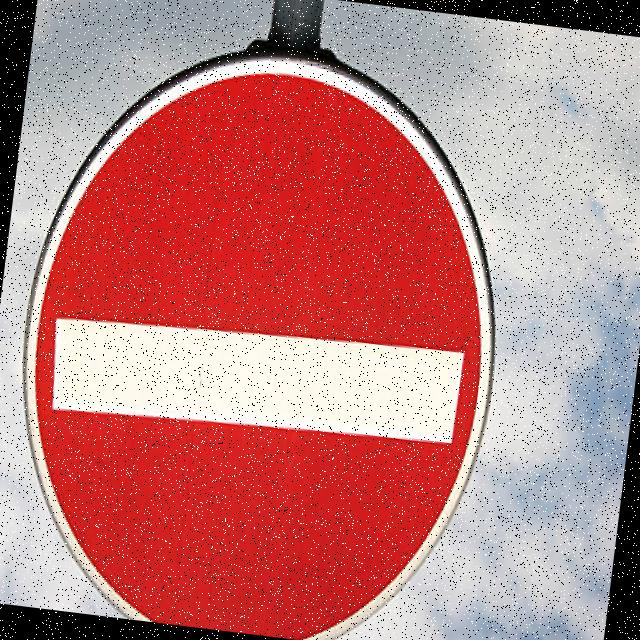do_not_enter: (0, 15, 543, 640)
